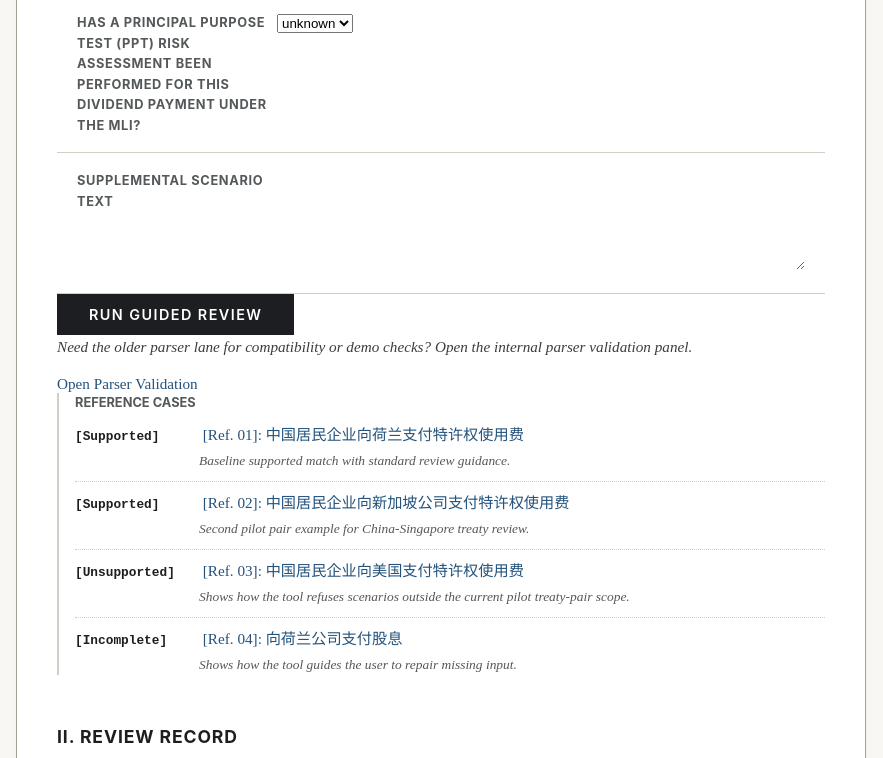
does not show Save Case for legacy free-text results
(page scrolled)
Click the button "Open Parser Validation" at (127, 384), box [57,375,198,393]
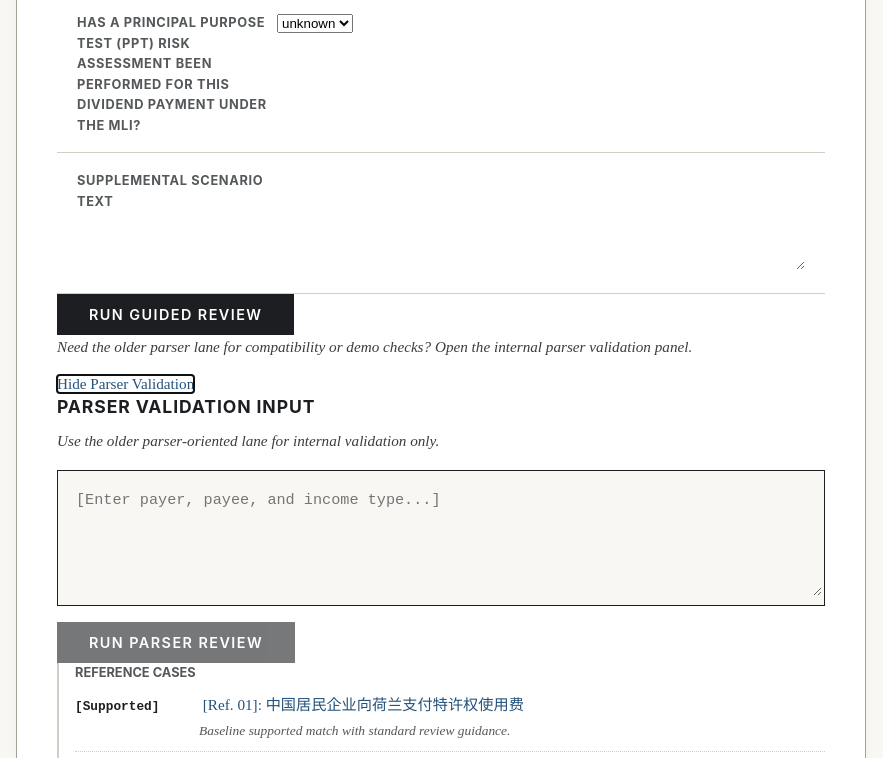
Type "中国居民企业向荷兰支付特许权使用费" into the text box named "cross-border scenario" at (441, 534), box [60,473,822,596]
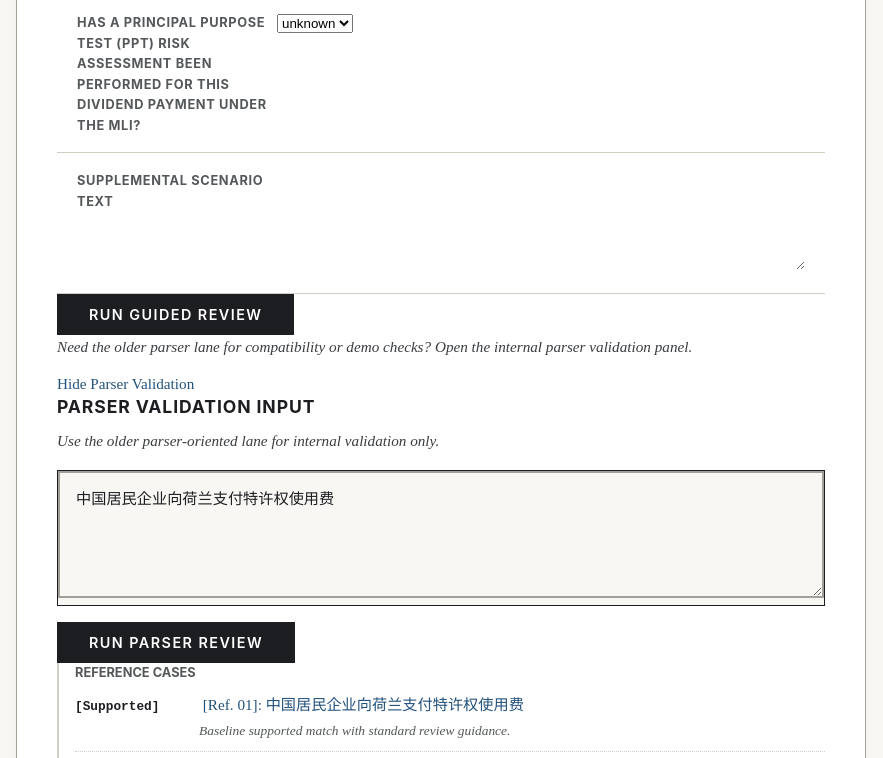
Click the button "Run Parser Review" at (176, 643), box [57,622,295,663]
(page scrolled)
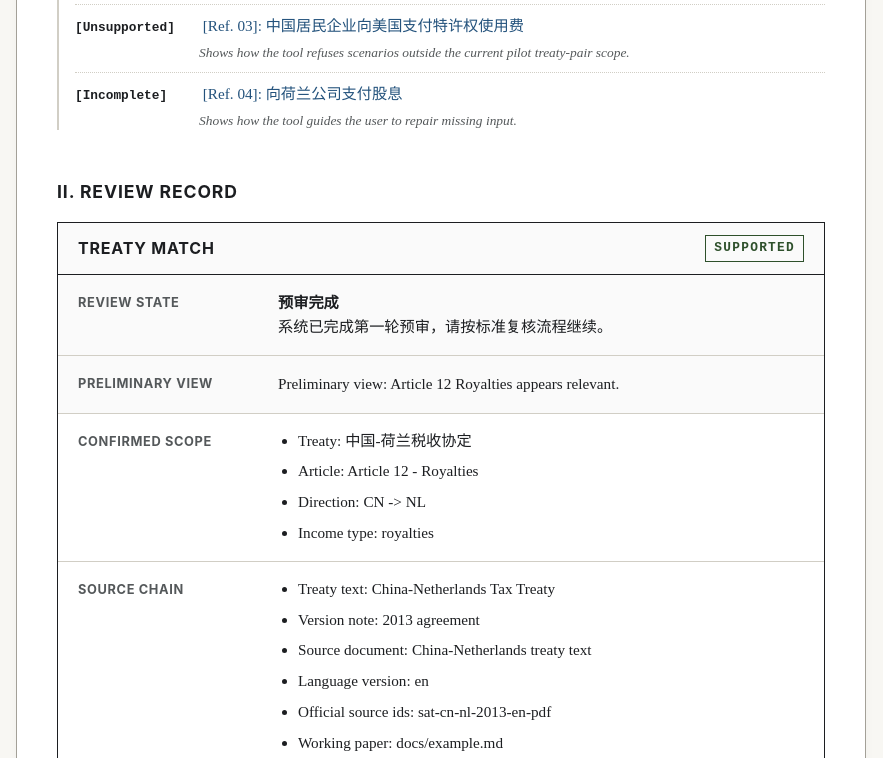
Expected: the text "Preliminary view: Article 12 Royalties appears relevant." is shown, [278,375,619,392]
